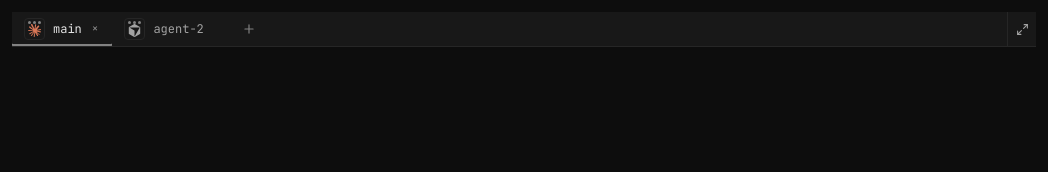
Test: TabsStrip › click + creates a draft tab
Step 1. Click the button named "New agent" → click(249, 30), box [234,12,264,47]
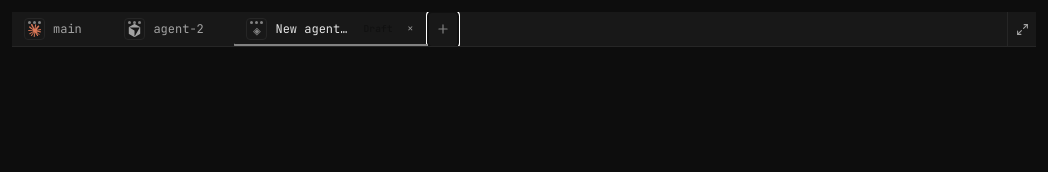
expect the tab "◈ New agent… Draft ×" is shown: met, box [234,12,428,46]
